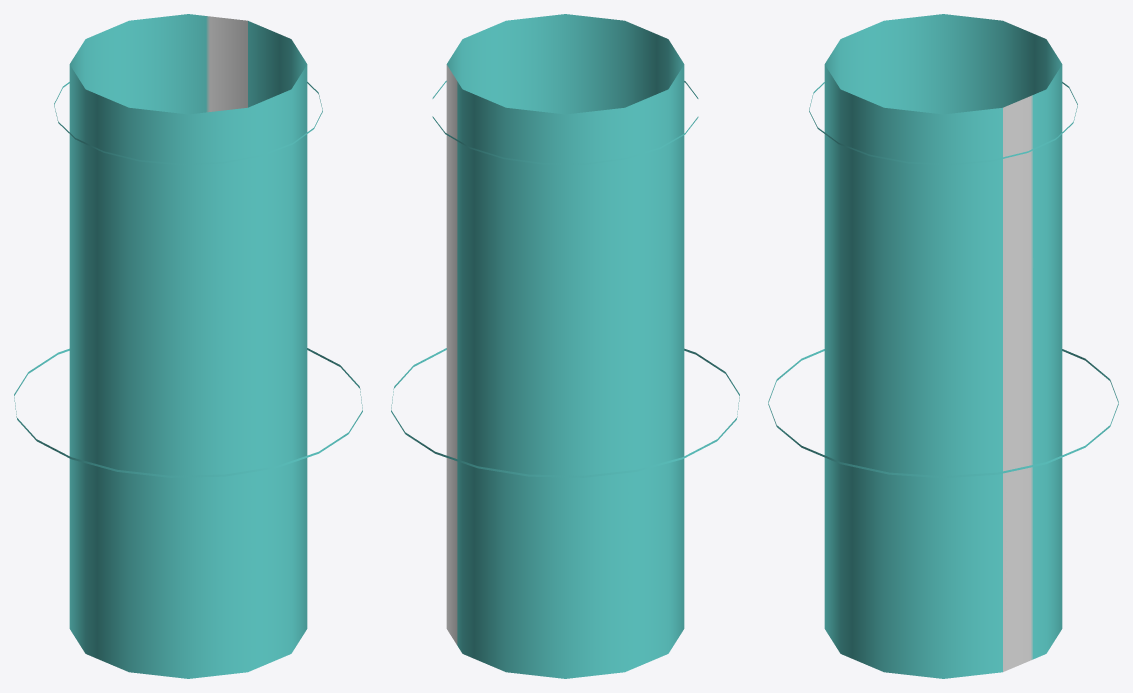
The model's file is 科幻数字线条.obj.
3 views of the same model, side by side, from view 1: azimuth 30°, elevation 25°; view 2: azimuth 150°, elevation 25°; view 3: azimuth 270°, elevation 25° (orthographic).
Visible parts, largest first — view 1: polySurface12; view 2: polySurface12; view 3: polySurface12.
Part boxes in pixels (box(x1,y1,x2,y2)): polySurface12: box(14, 14, 362, 678); polySurface12: box(391, 14, 739, 678); polySurface12: box(768, 14, 1118, 678).
Size of the model in its own units: 158 by 281 by 158.
